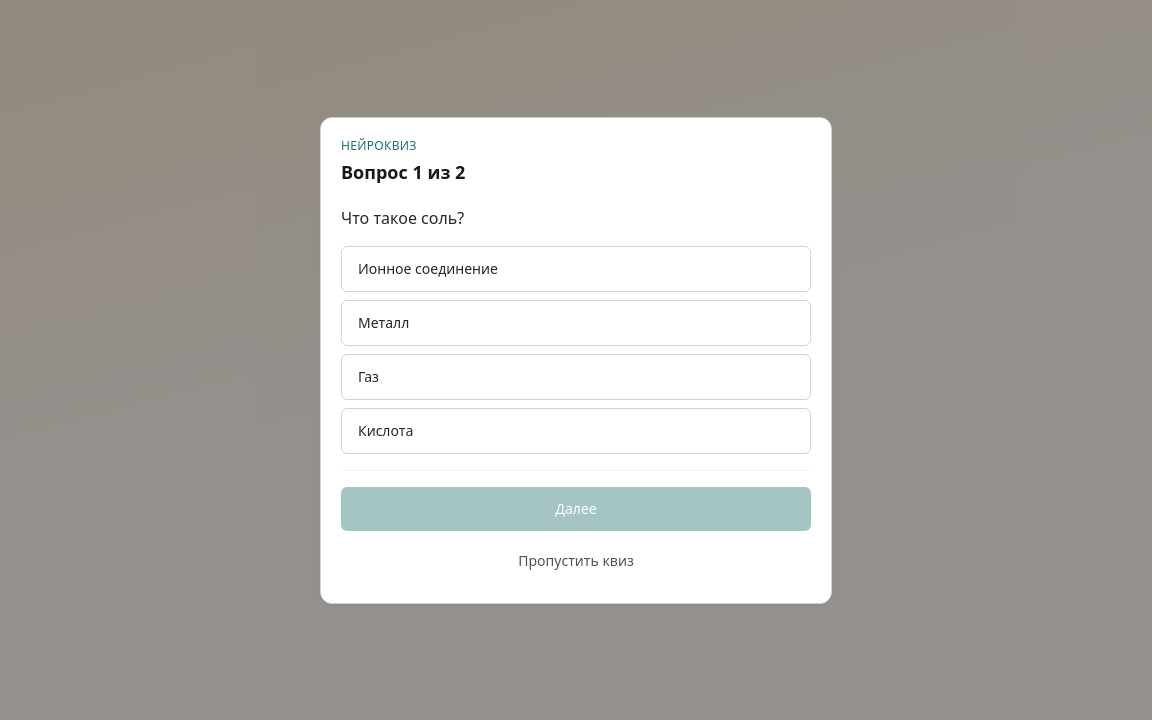
Test: NeuroQuizOverlay › locks options after answer and shows vote icons under the prompt
Expected: the text "Что такое соль?" is shown, [341,206,464,228]
Click the button "Ионное соединение" at (428, 268), box [341,246,811,292]
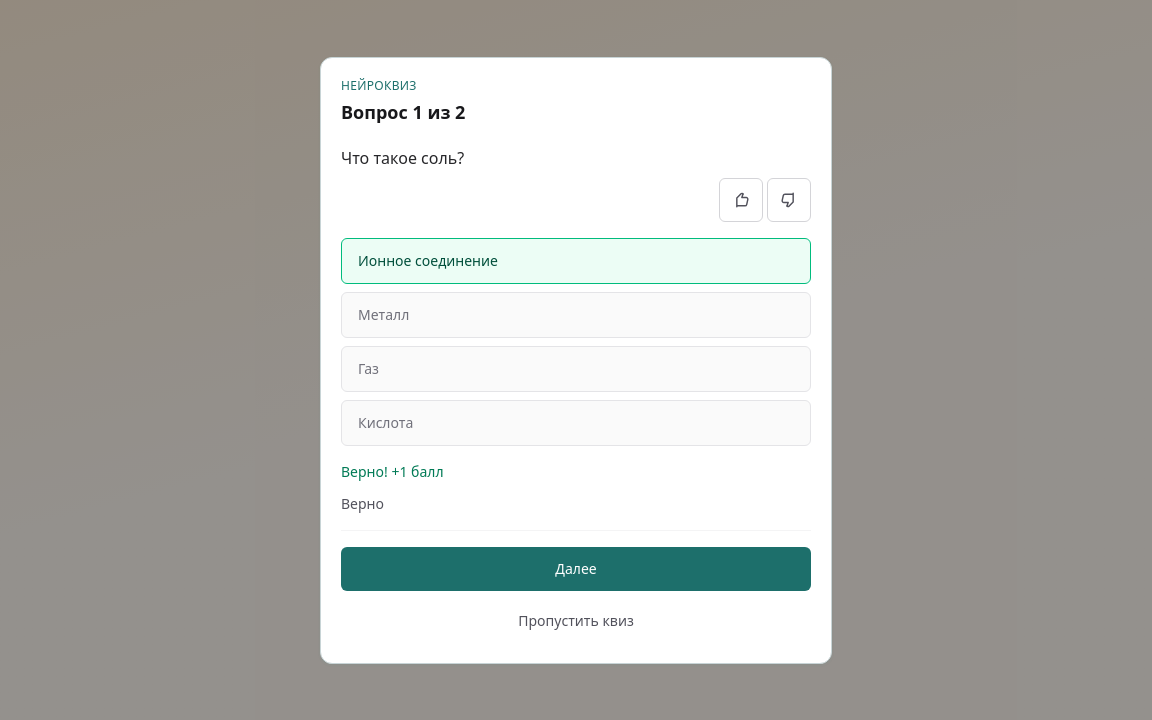
Expected: the text "Верно! +1 балл" is shown, [341,462,444,480]
Expected: the button named "Полезно" is shown, [719,178,763,222]
Expected: the button named "Плохой вопрос" is shown, [767,178,811,222]
